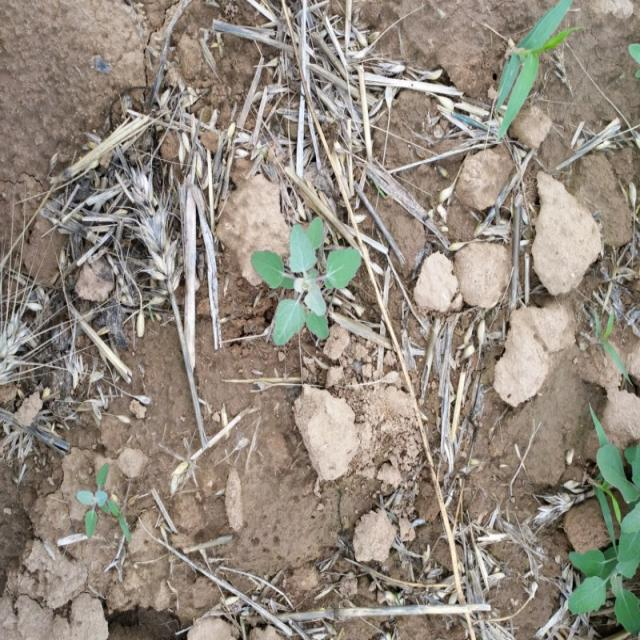goosefoots: (243, 214, 352, 342)
